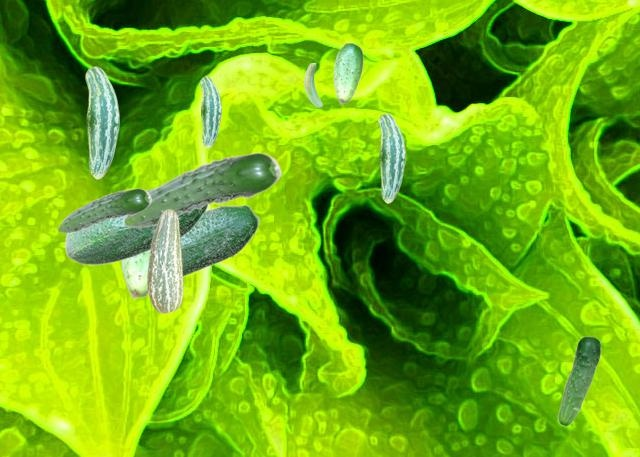cucumber: (123, 152, 281, 227), (64, 187, 208, 264), (181, 204, 259, 277), (57, 188, 151, 232), (557, 336, 600, 425), (85, 66, 118, 178), (147, 209, 182, 312), (378, 113, 404, 202), (333, 42, 362, 103), (200, 76, 220, 147), (120, 252, 148, 298), (304, 63, 321, 106)
